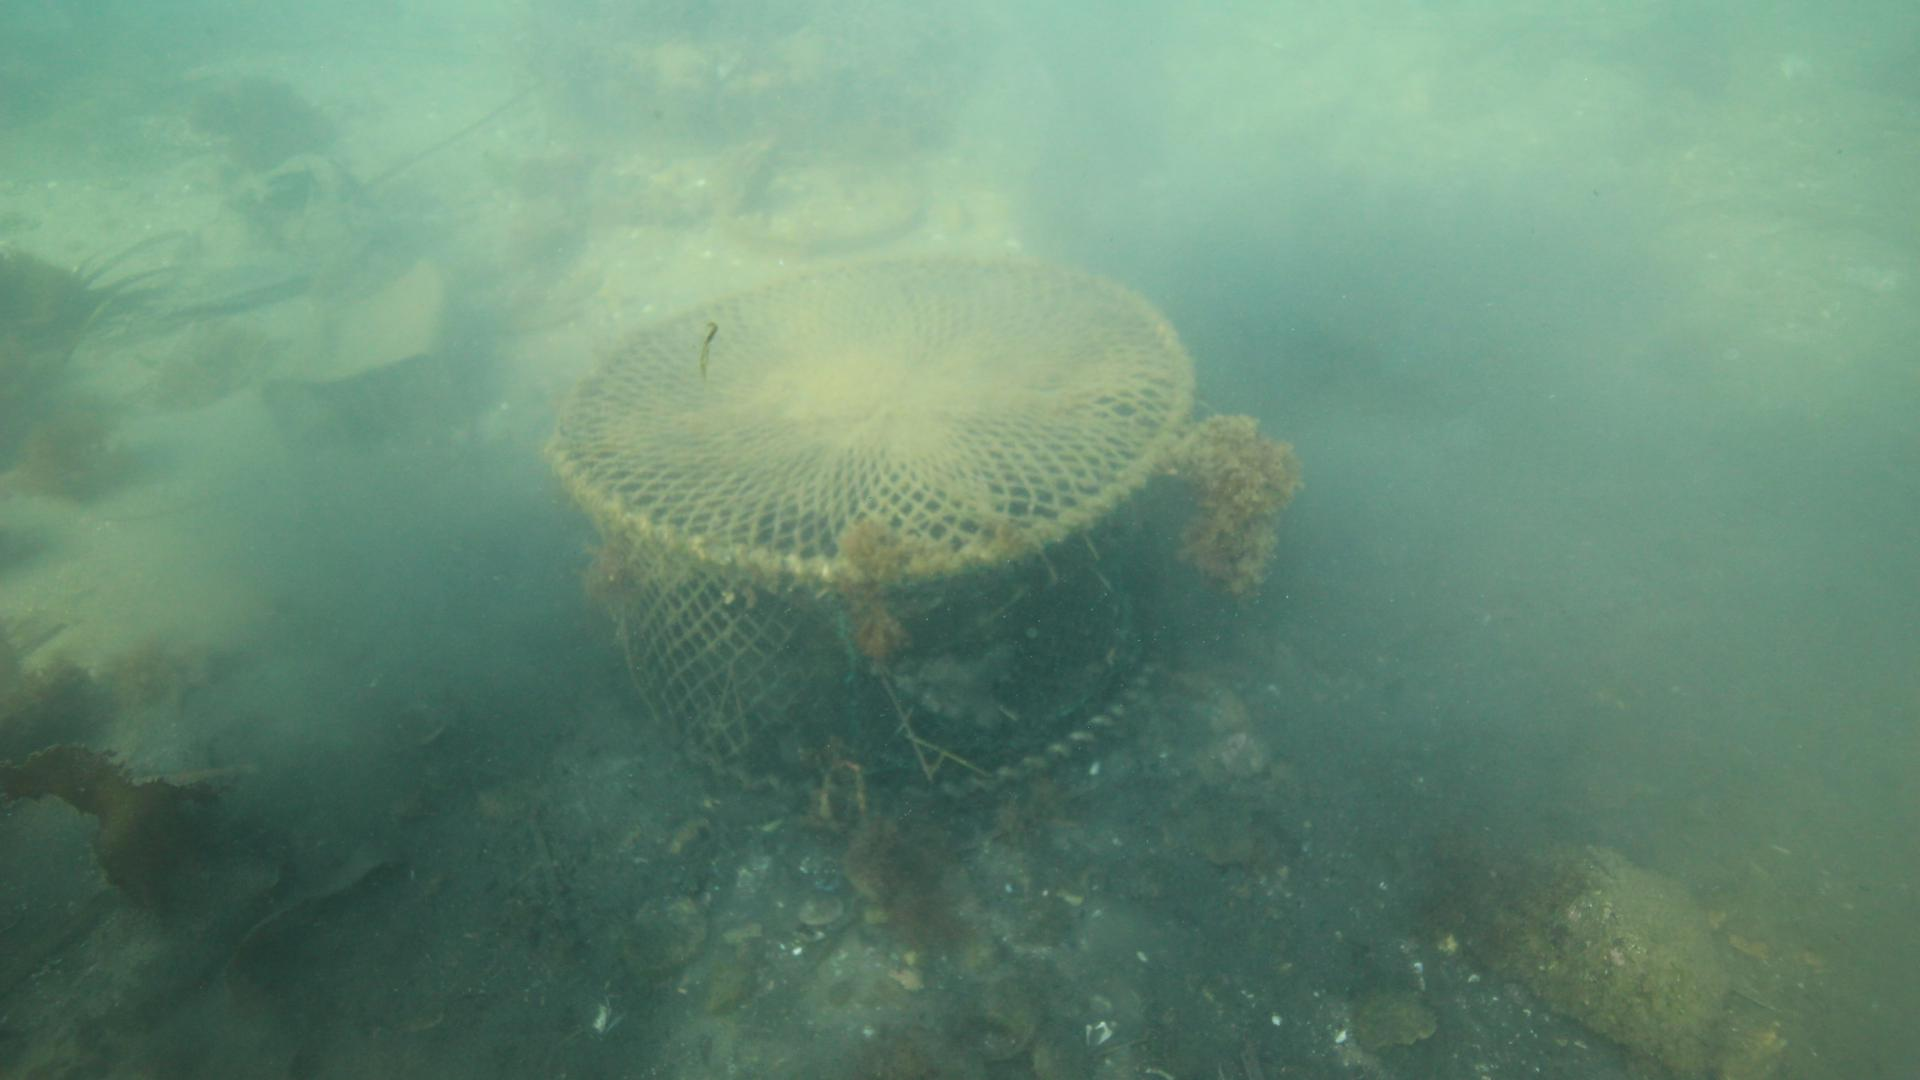circular fish trap: (538, 251, 1197, 811)
